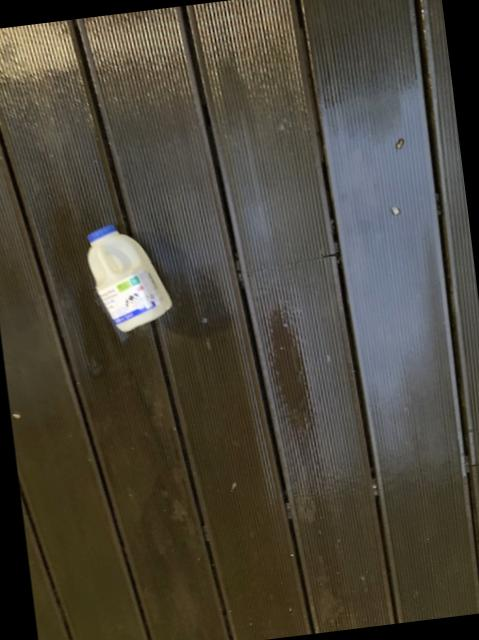plastic: (88, 225, 172, 331)
